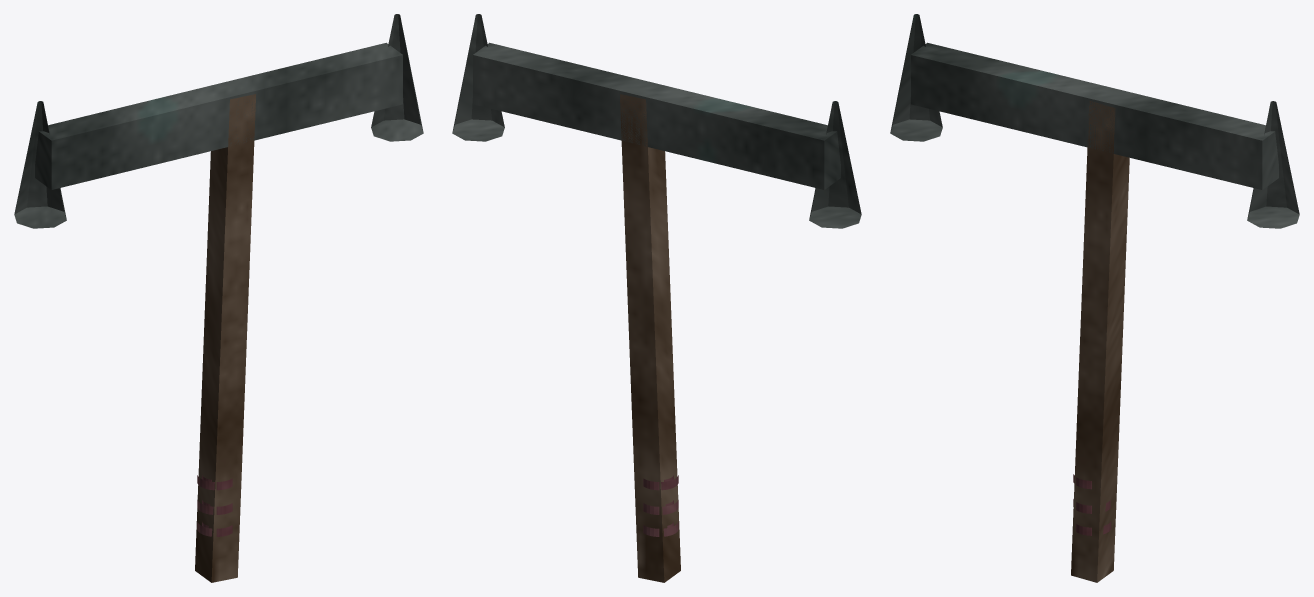
The model's file is 0864_pickaxe_14.glb.
3 renders of one model, left to right at view 1: azimuth 30°, elevation 25°; view 2: azimuth 150°, elevation 25°; view 3: azimuth 330°, elevation 25°, orthographic.
Visible parts, largest first — view 1: iron, wood, cloth; view 2: iron, wood, cloth; view 3: iron, wood, cloth.
Boxes of the visible parts, x1,y1,x2,y2 form: iron: [14, 14, 423, 228]; wood: [195, 94, 255, 582]; cloth: [197, 475, 232, 536]; iron: [452, 14, 861, 228]; wood: [620, 94, 680, 582]; cloth: [643, 475, 678, 536]; iron: [890, 14, 1299, 228]; wood: [1071, 101, 1129, 582]; cloth: [1073, 474, 1111, 535].
Bounding box in the file's own units: 1.54 × 1.88 × 0.18.
3 materials, 3 textured.
